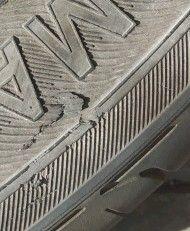cut: (16, 87, 116, 170)
